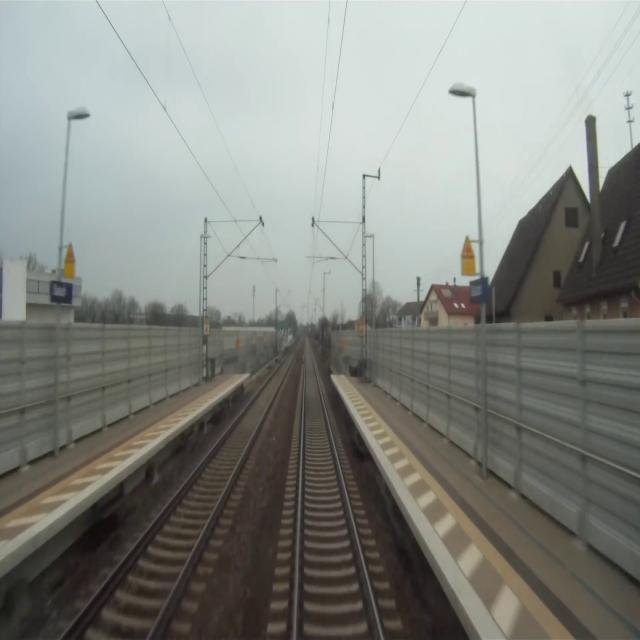rail-track: (65, 350, 295, 639), (297, 344, 379, 639)
